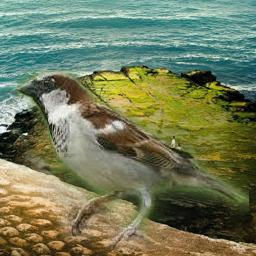Sparrow: (17, 70, 249, 250)
